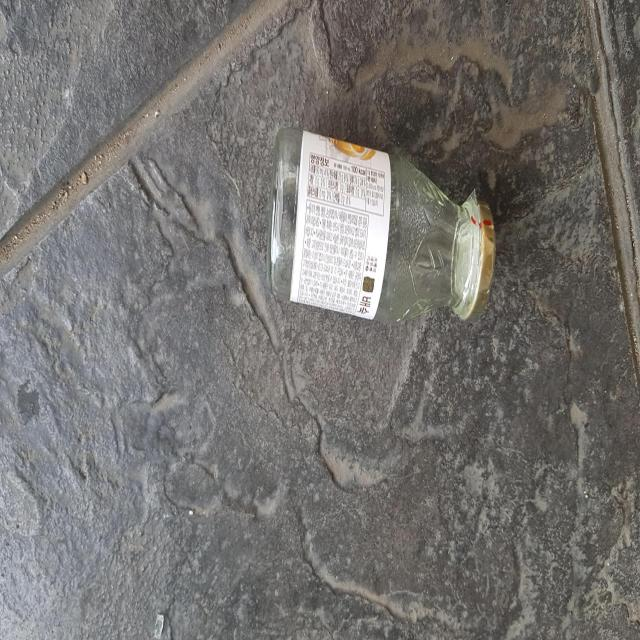glass: (267, 126, 495, 322)
